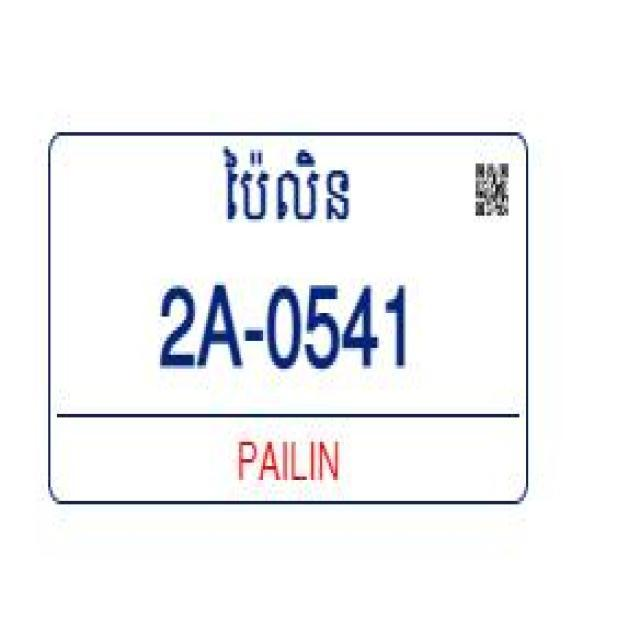Pailin: (217, 143, 354, 232)
